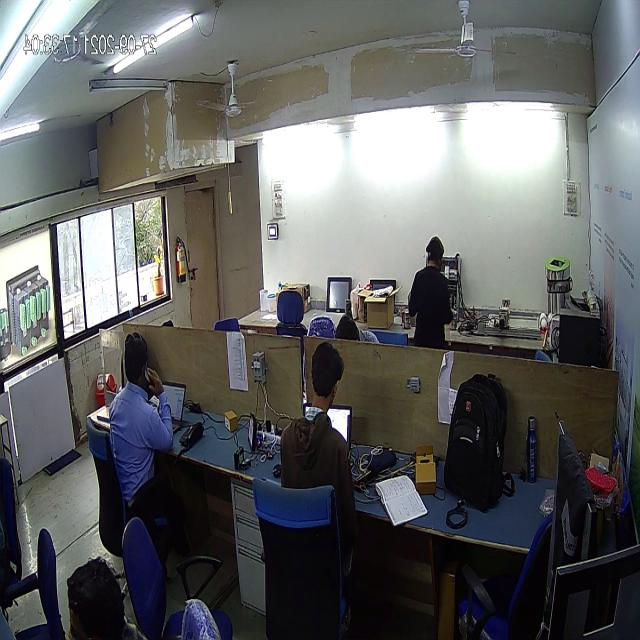adult: (261, 330, 365, 618), (98, 321, 180, 557)
